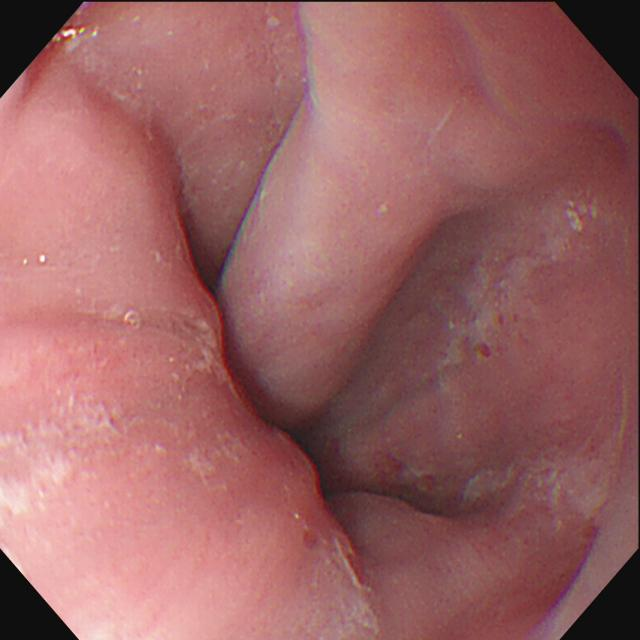J: (2, 391, 124, 515), (462, 455, 621, 528), (155, 420, 250, 496), (163, 312, 241, 400)
U: (55, 23, 101, 43)
